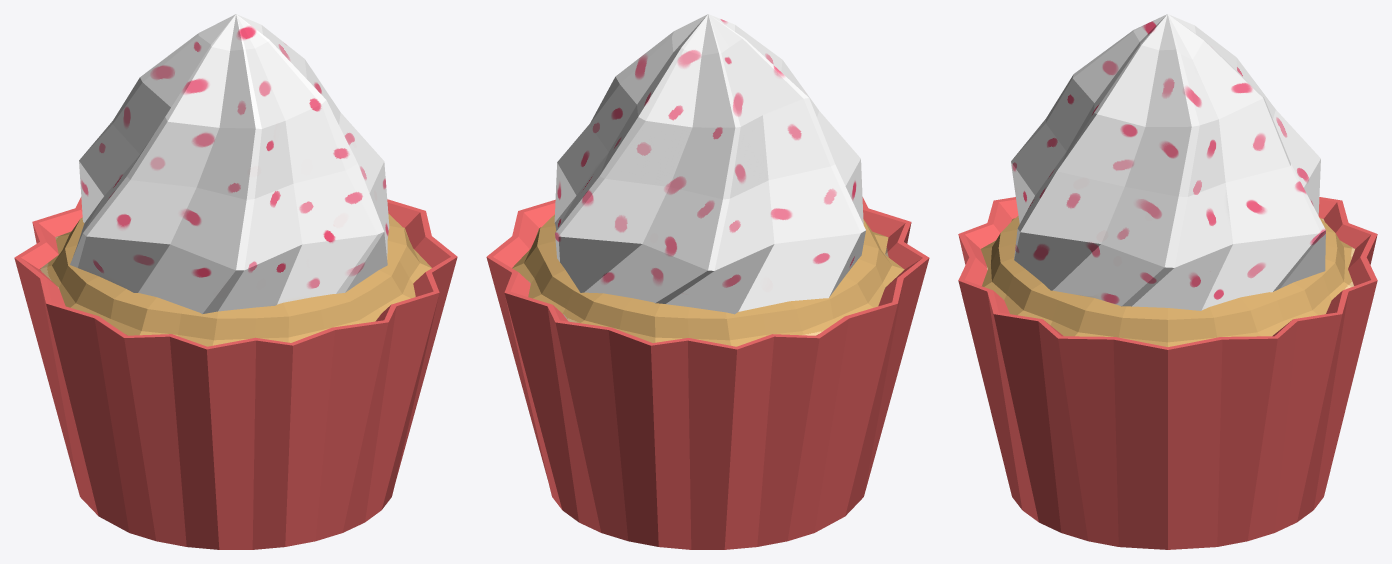
The model's file is CupcakeModel.fbx.
3 renders of one model, left to right at view 1: azimuth 30°, elevation 25°; view 2: azimuth 150°, elevation 25°; view 3: azimuth 270°, elevation 25°, orthographic.
Parts seen in each view (by area): view 1: Cupcake+Wrapper, Topping; view 2: Cupcake+Wrapper, Topping; view 3: Cupcake+Wrapper, Topping.
Boxes of the visible parts, x1,y1,x2,y2 form: Cupcake+Wrapper: [14, 197, 457, 549]; Topping: [70, 14, 389, 313]; Cupcake+Wrapper: [486, 197, 929, 549]; Topping: [554, 14, 865, 314]; Cupcake+Wrapper: [958, 197, 1377, 549]; Topping: [1011, 14, 1325, 310].
Bounding box in the file's own units: 168 × 198 × 160.
